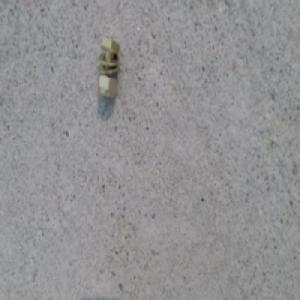BoltNutSet: (87, 28, 112, 94)
